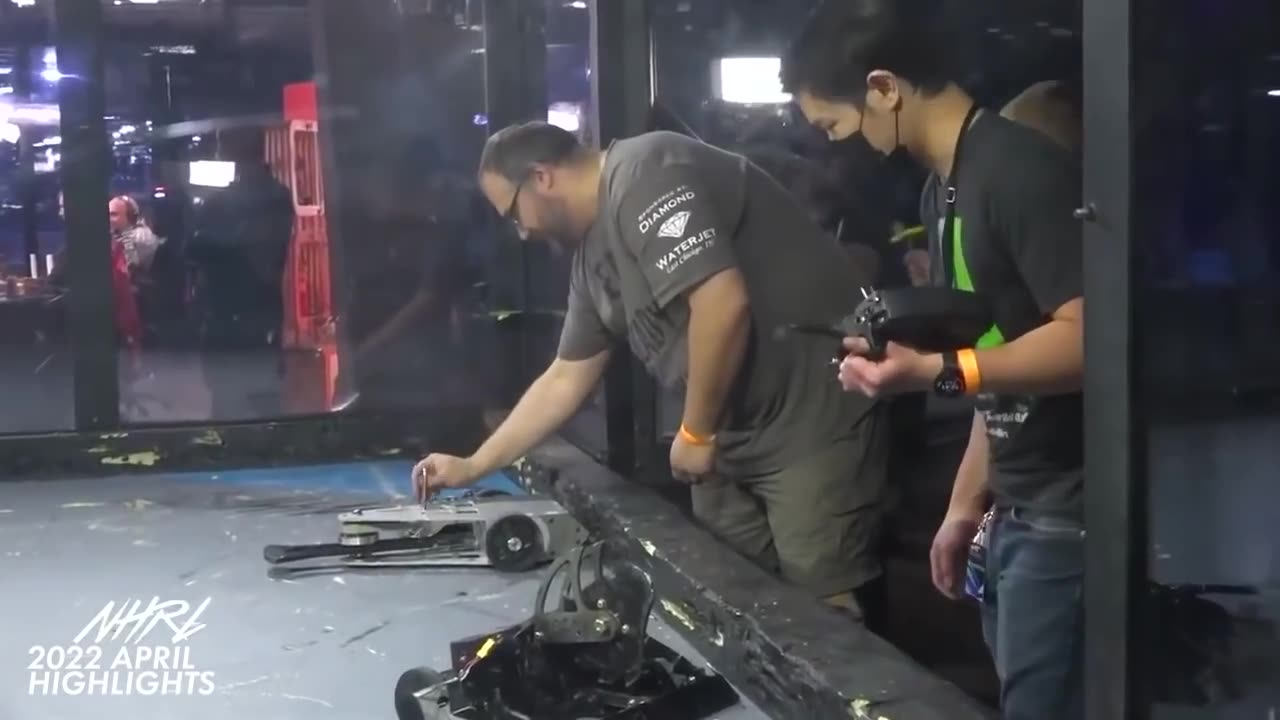combatbot: (392, 581, 738, 720), (339, 492, 564, 578)
